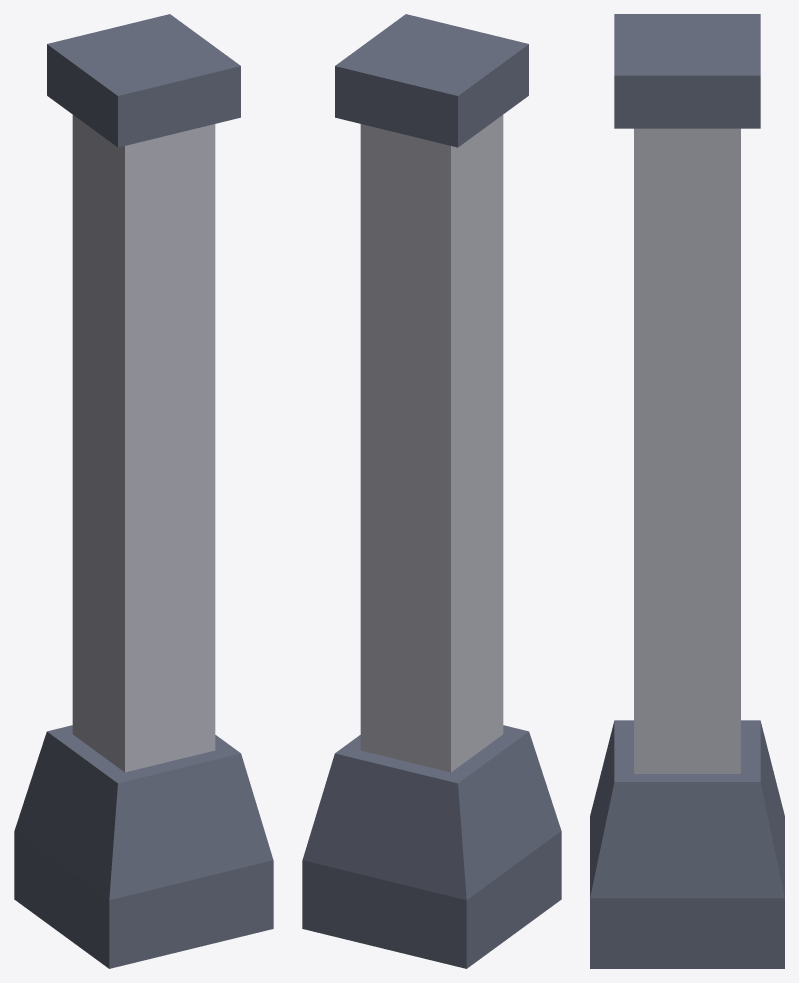
The model's file is Bridge Pillar.glb.
3 renders of one model, left to right at view 1: azimuth 30°, elevation 25°; view 2: azimuth 150°, elevation 25°; view 3: azimuth 270°, elevation 25°, orthographic. The views are drawn at different scales.
Visible parts, largest first — view 1: bridge_pillar; view 2: bridge_pillar; view 3: bridge_pillar.
Boxes of the visible parts, box(x1,y1,x2,y2) form: bridge_pillar: box(14, 14, 273, 968); bridge_pillar: box(302, 14, 561, 968); bridge_pillar: box(590, 14, 784, 968).
Bounding box in the file's own units: 0.1 × 0.5 × 0.1.
